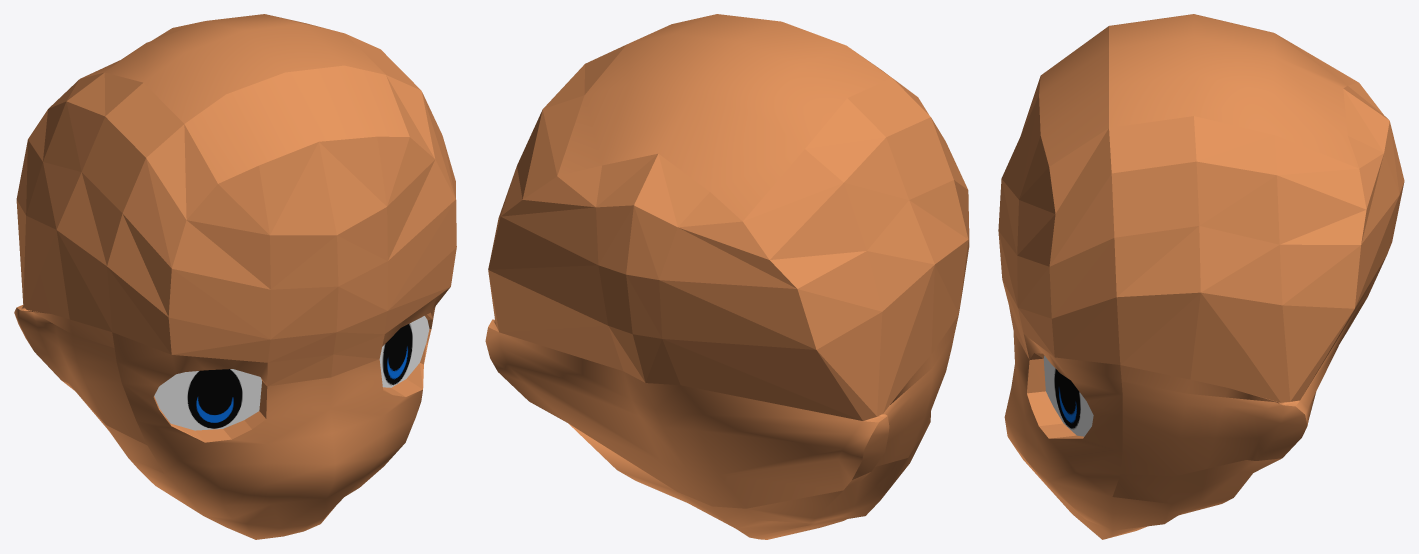
File: yuuta head eyes.FBX
The picture shows the model from 3 angles, left to right: view 1: azimuth 30°, elevation 25°; view 2: azimuth 150°, elevation 25°; view 3: azimuth 270°, elevation 25°; orthographic projection. The views are drawn at different scales.
Visible parts, largest first — view 1: Head; view 2: Head; view 3: Head.
Part boxes in pixels (bbox=[...]): Head: bbox=[14, 14, 456, 539]; Head: bbox=[485, 14, 969, 539]; Head: bbox=[998, 14, 1404, 539].
Bounding box in the file's own units: 29.86 × 27.45 × 36.82.
